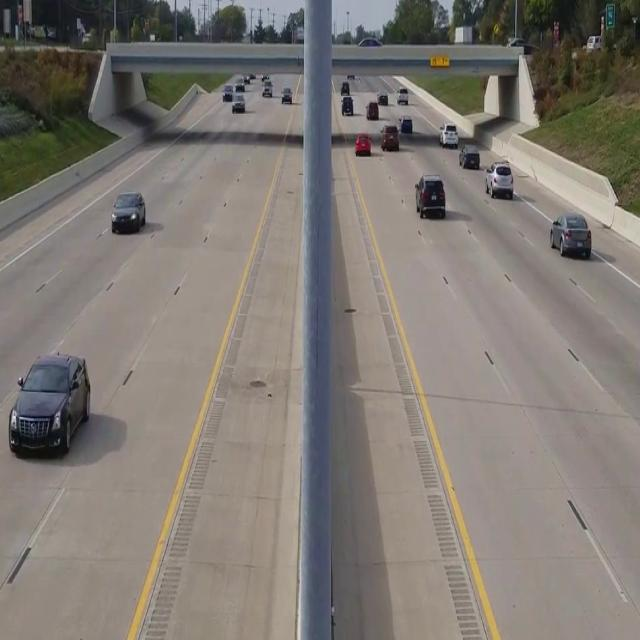car: (9, 351, 90, 457), (550, 212, 592, 259), (110, 190, 146, 232), (414, 174, 446, 218), (484, 159, 514, 198), (439, 124, 458, 148), (354, 133, 372, 155)
